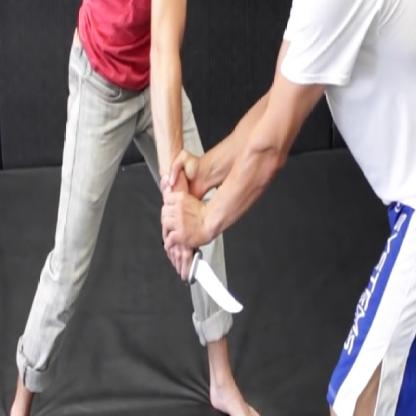knife: (158, 238, 250, 318)
